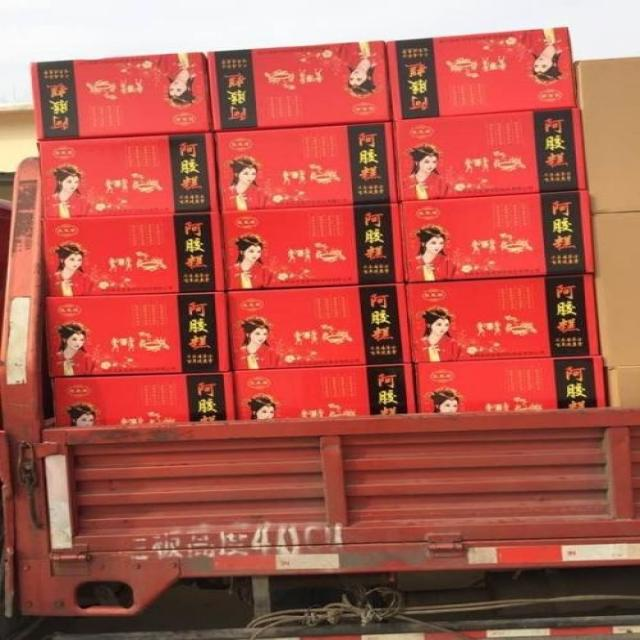box: (399, 188, 595, 283), (383, 28, 579, 122), (392, 107, 588, 201), (407, 272, 602, 363), (206, 40, 393, 131), (221, 201, 408, 291), (227, 282, 413, 371), (28, 52, 211, 141), (214, 123, 399, 211), (45, 291, 230, 379), (38, 132, 220, 218), (44, 212, 225, 298), (413, 355, 607, 413), (233, 363, 417, 420), (49, 373, 237, 425)
